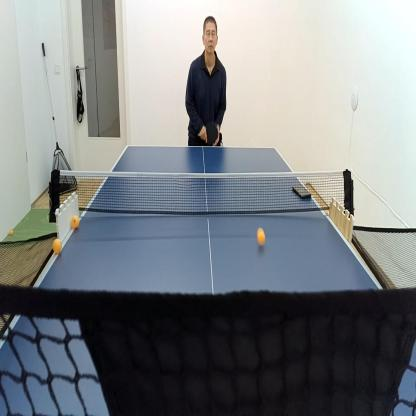Ball: (256, 227, 266, 246), (52, 238, 63, 255), (70, 215, 80, 230), (9, 228, 13, 237)
